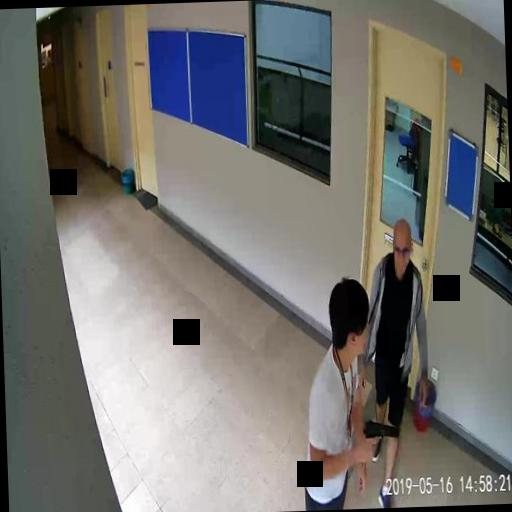Handgun: (362, 416, 398, 458)
